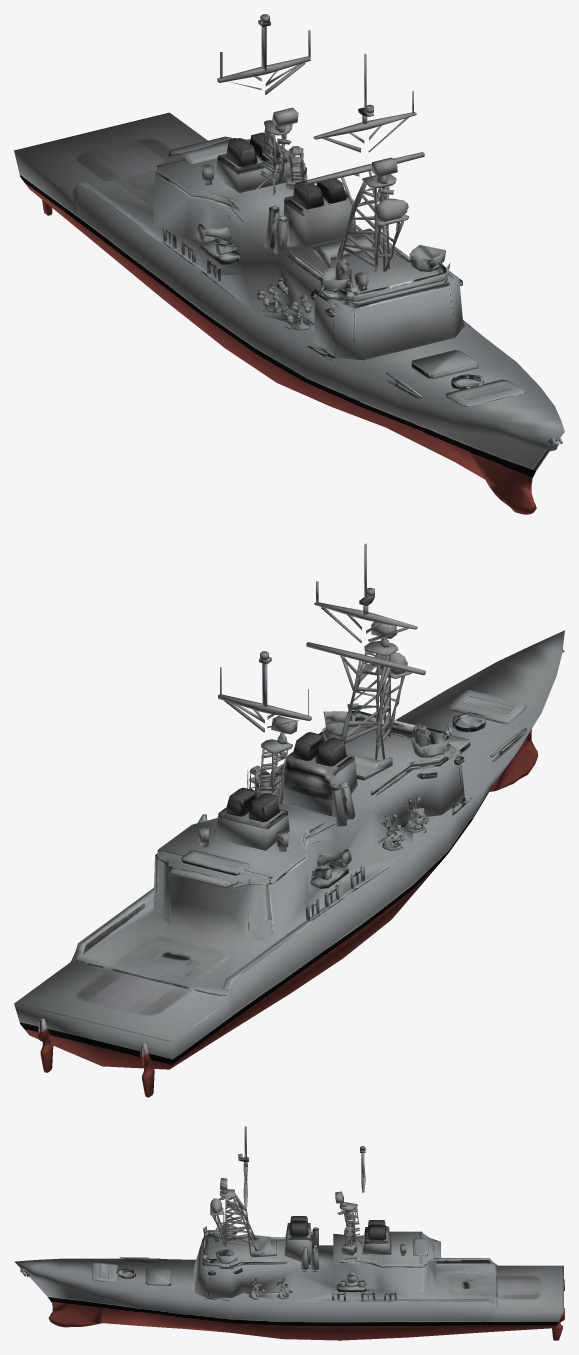
Rendered from hull_destroyer.glb.
3 views of the same model, one above another, from view 1: azimuth 30°, elevation 25°; view 2: azimuth 150°, elevation 25°; view 3: azimuth 270°, elevation 25° (orthographic). The views are drawn at different scales.
Visible parts, largest first — view 1: tripo_node_f99f9f1e-c1f1-489e-b450-ea9600fde965; view 2: tripo_node_f99f9f1e-c1f1-489e-b450-ea9600fde965; view 3: tripo_node_f99f9f1e-c1f1-489e-b450-ea9600fde965.
Part boxes in pixels (x1,y1,x2,y2): tripo_node_f99f9f1e-c1f1-489e-b450-ea9600fde965: (14, 14, 564, 514); tripo_node_f99f9f1e-c1f1-489e-b450-ea9600fde965: (14, 543, 564, 1097); tripo_node_f99f9f1e-c1f1-489e-b450-ea9600fde965: (14, 1126, 564, 1340).
Bounding box in the file's own units: 23.57 × 50.72 × 122.
1 material, 1 textured.
